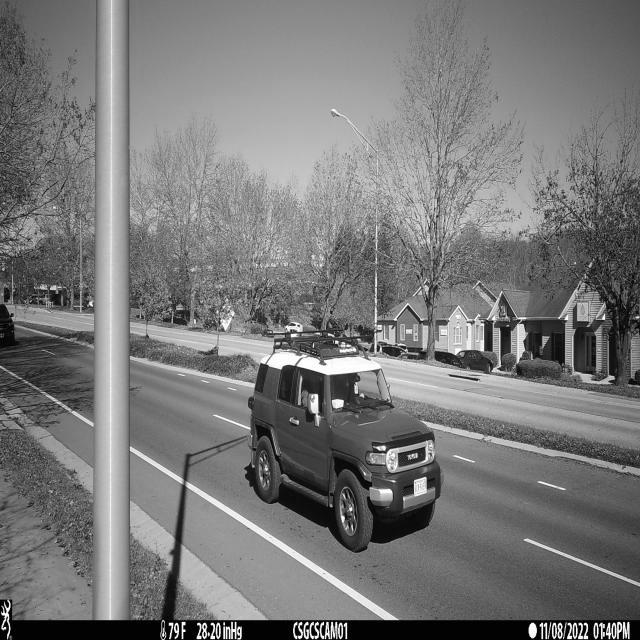SUV: (248, 335, 441, 554)
